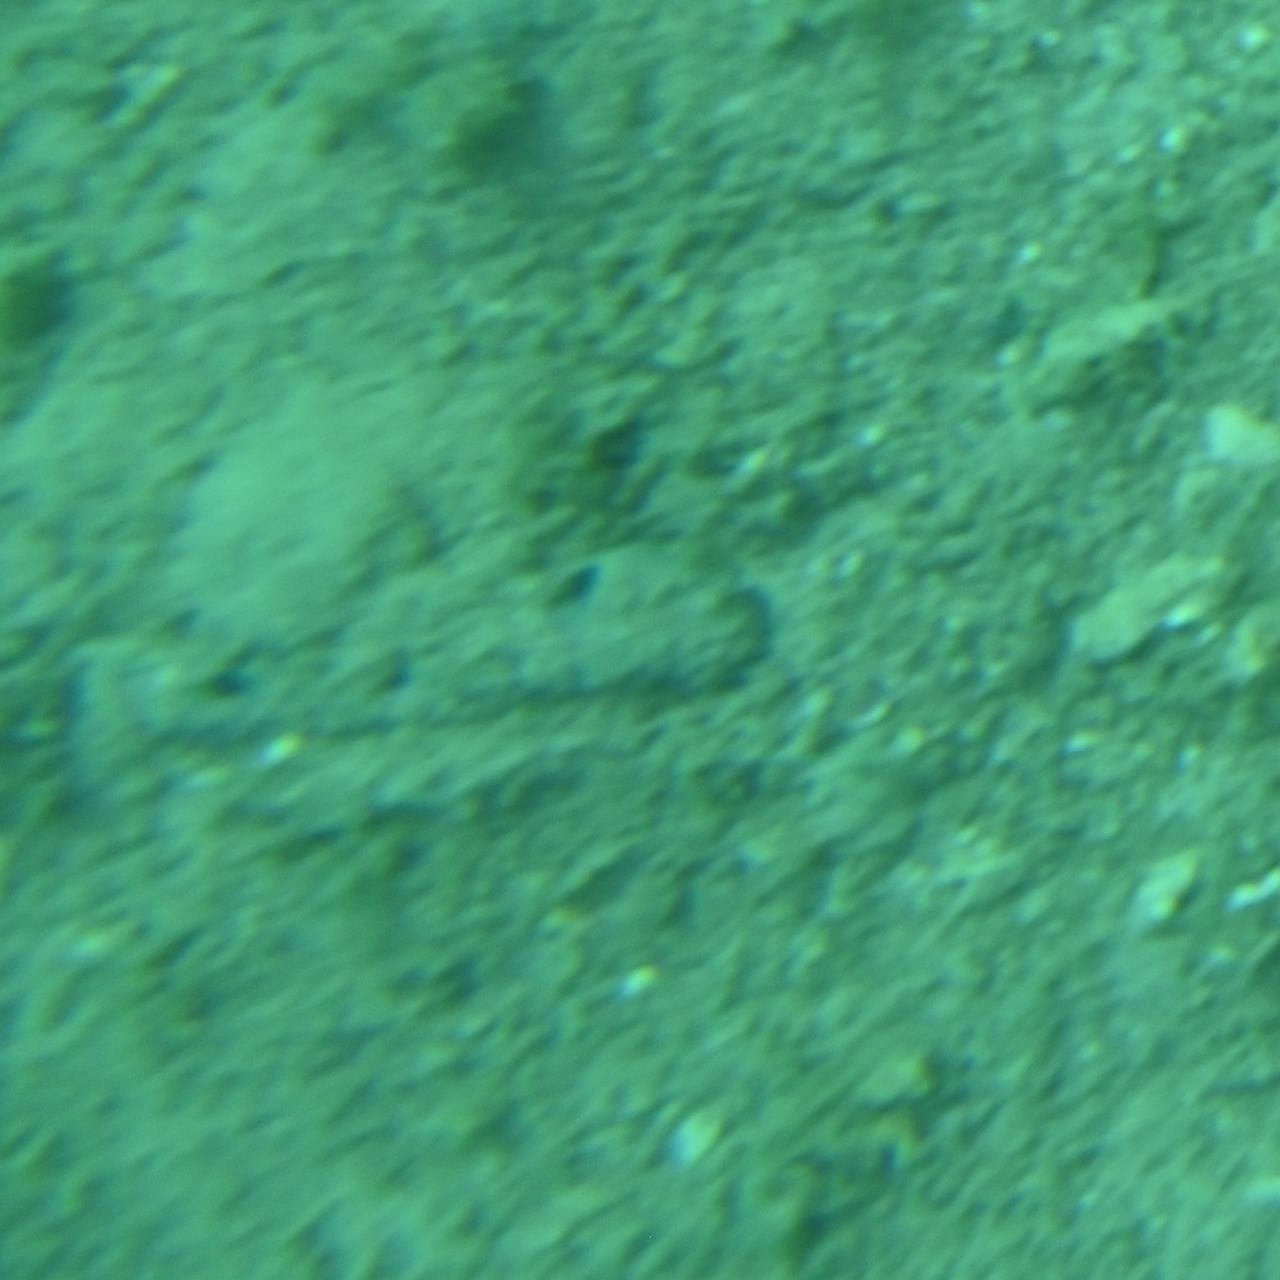Holothuria tubulosa: (2, 519, 782, 761)
